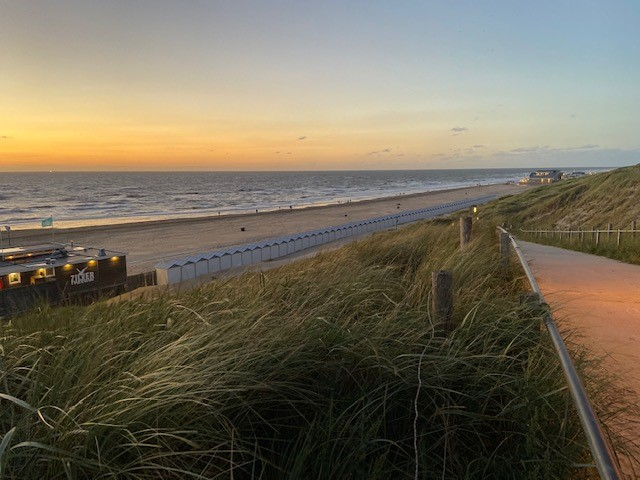zilvermeeuw: (1, 239, 138, 312)
